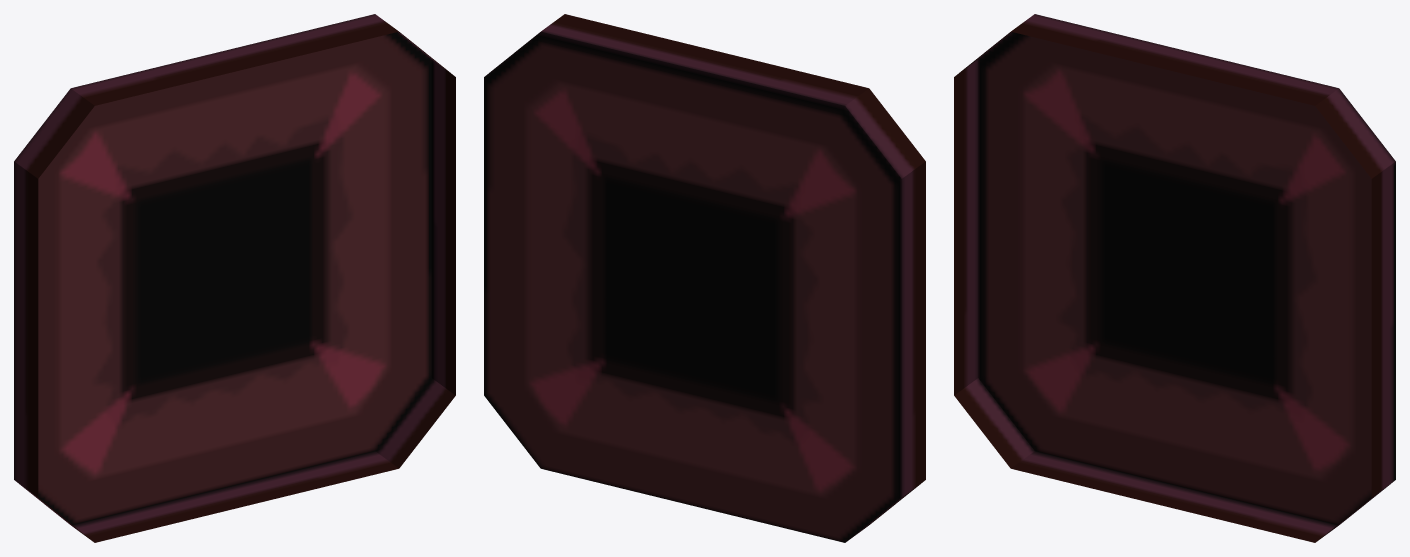
File: Trap_002_Base.fbx
The picture shows the model from 3 angles, left to right: view 1: azimuth 30°, elevation 25°; view 2: azimuth 150°, elevation 25°; view 3: azimuth 330°, elevation 25°; orthographic projection.
Visible parts, largest first — view 1: trap_base; view 2: trap_base; view 3: trap_base.
Part boxes in pixels (<box>): trap_base: <box>14,14,455,542</box>; trap_base: <box>484,14,925,542</box>; trap_base: <box>954,14,1395,542</box>.
Bounding box in the file's own units: 1 × 1 × 0.1.
Materials: 1 (1 with a texture image).
